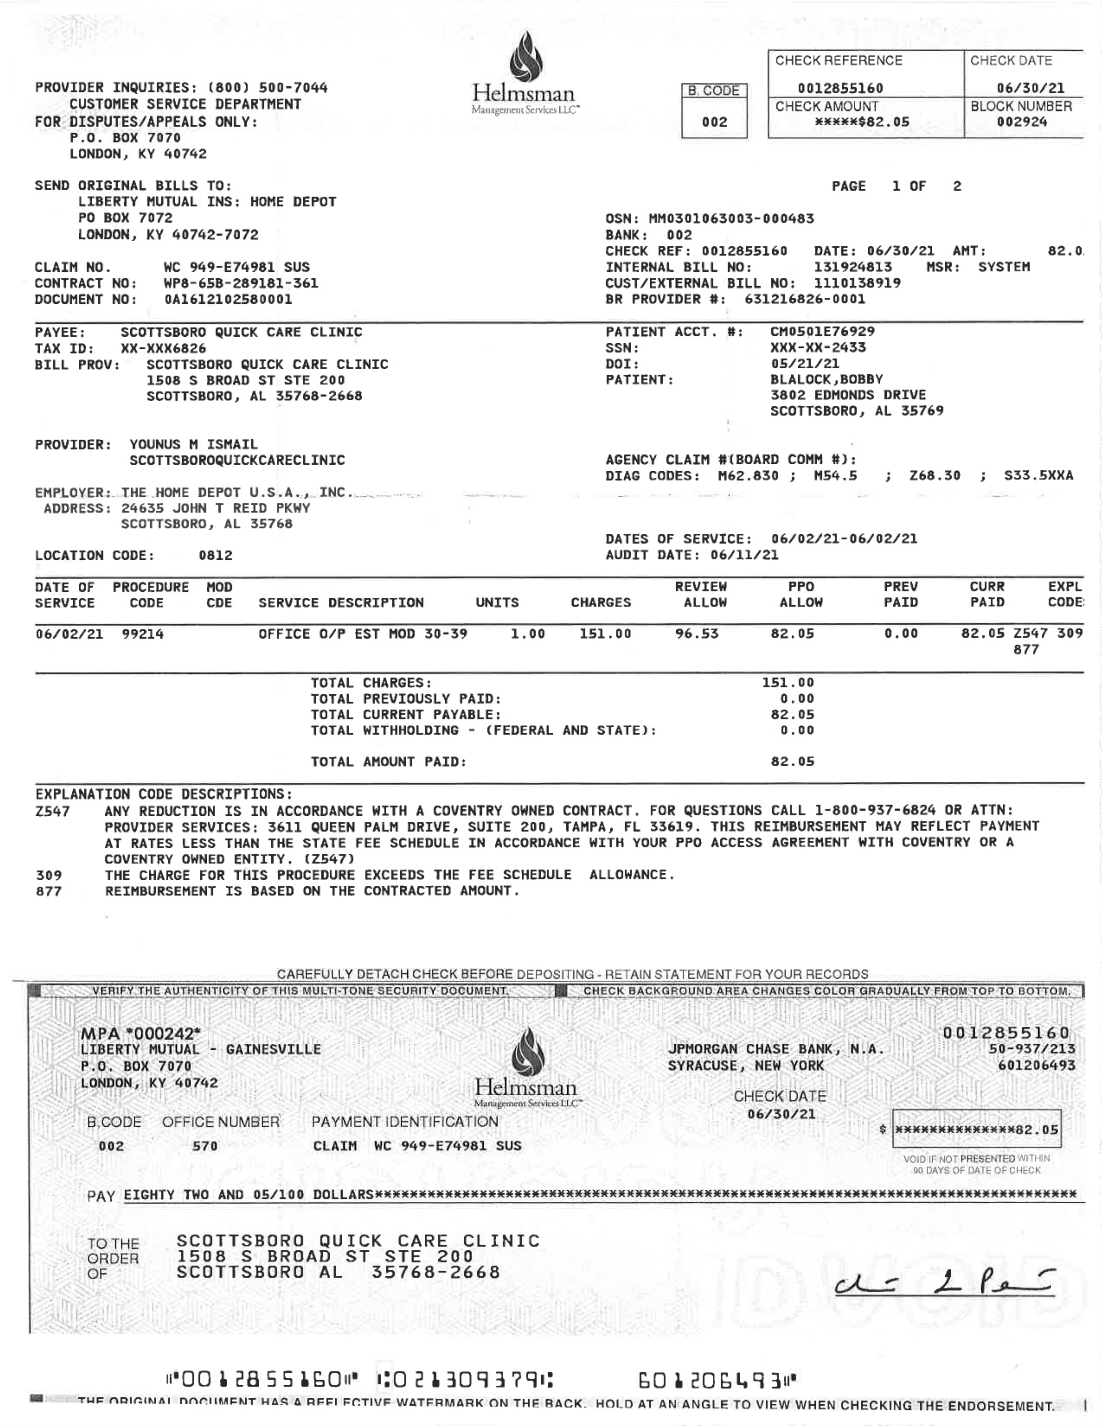data: (597, 203, 1043, 307), (598, 324, 960, 436), (23, 321, 403, 421), (25, 428, 412, 479), (23, 251, 332, 313)
table: (22, 569, 1092, 661), (757, 41, 1088, 156)
